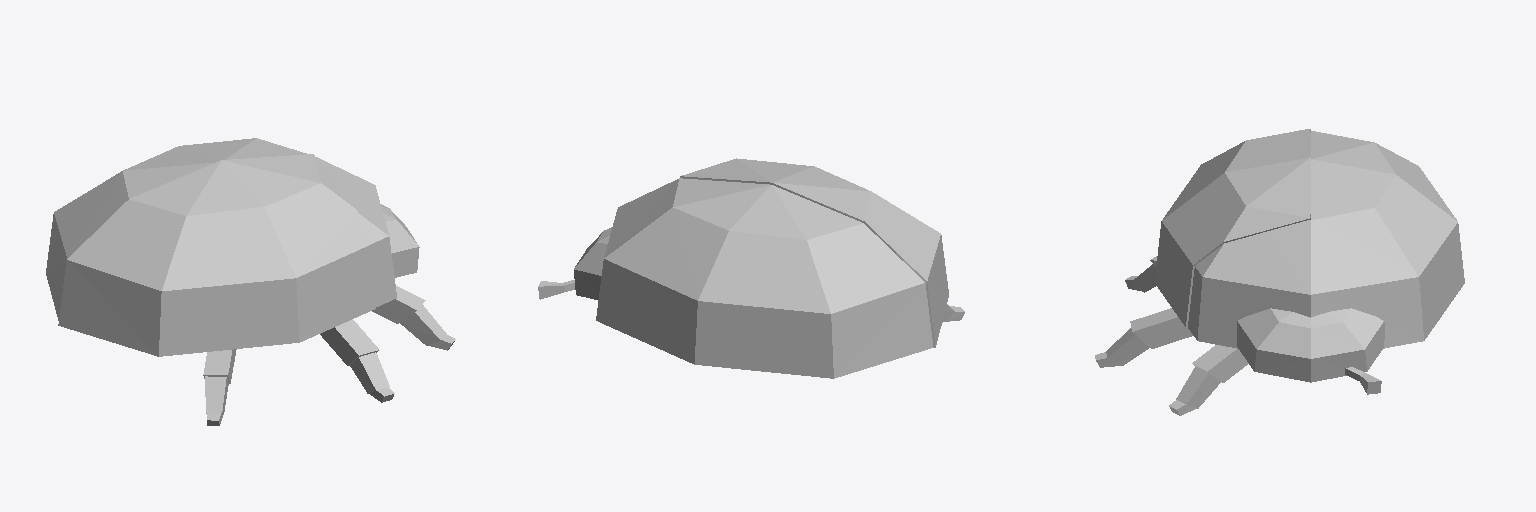
File: ladybug1.obj
The picture shows the model from 3 angles: view 1: azimuth 30°, elevation 25°; view 2: azimuth 150°, elevation 25°; view 3: azimuth 270°, elevation 25°; orthographic projection.
Parts seen in each view (by area): view 1: polySurface7, polySurface1, pCube6, pCube7, pCube8, pCube2; view 2: polySurface1, polySurface7, pCube2; view 3: polySurface1, polySurface7, pCube2, pCube6, pCube7, pCube8.
Boxes of the visible parts, <box> form: polySurface7: <box>58,154,375,356</box>; polySurface1: <box>46,138,396,320</box>; pCube6: <box>320,319,394,402</box>; pCube7: <box>372,286,455,350</box>; pCube8: <box>203,349,236,425</box>; pCube2: <box>381,204,419,277</box>; polySurface1: <box>596,178,933,378</box>; polySurface7: <box>680,158,948,347</box>; pCube2: <box>574,227,611,299</box>; polySurface1: <box>1188,131,1464,348</box>; polySurface7: <box>1154,129,1310,327</box>; pCube2: <box>1237,308,1384,382</box>; pCube6: <box>1095,308,1192,367</box>; pCube7: <box>1169,345,1248,415</box>; pCube8: <box>1125,256,1156,292</box>.
Bounding box in the file's own units: 5.84 × 2.73 × 5.12.